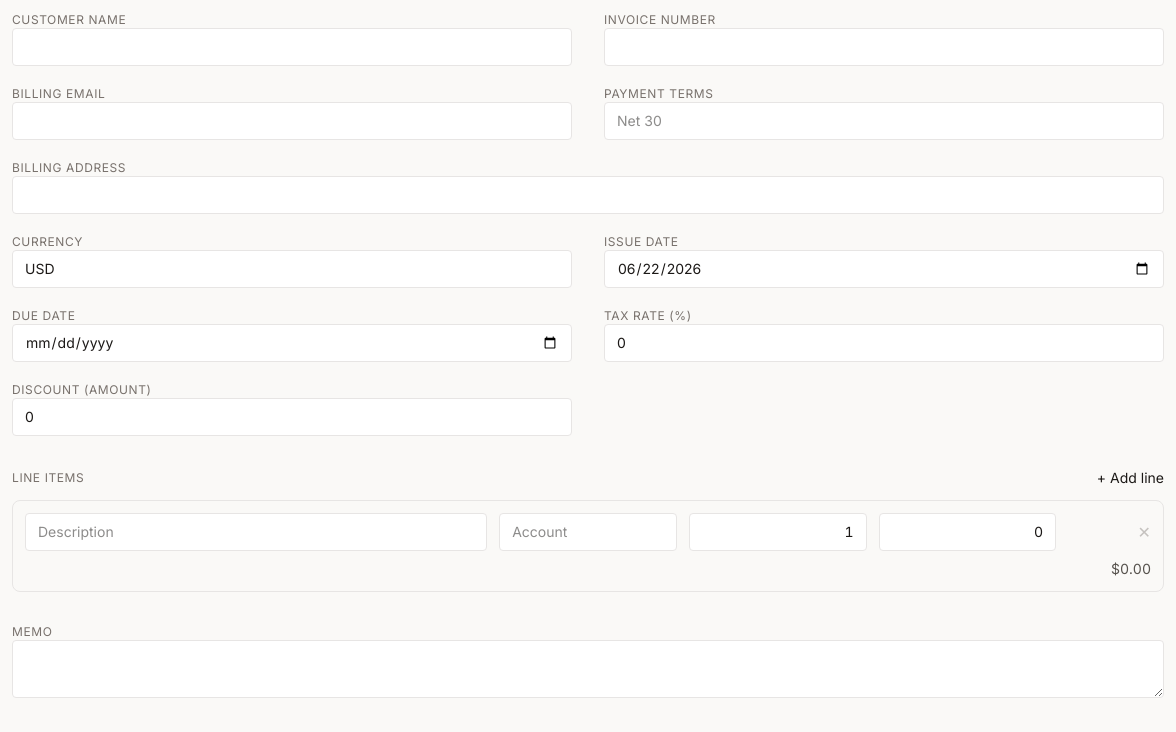
Test: InvoiceForm blur validation › clears the error on blur once the field becomes valid
The width and height of the screenshot is (1176, 732).
Click the field labelled "Customer name". click: (292, 47)
box: [12,28,572,66]
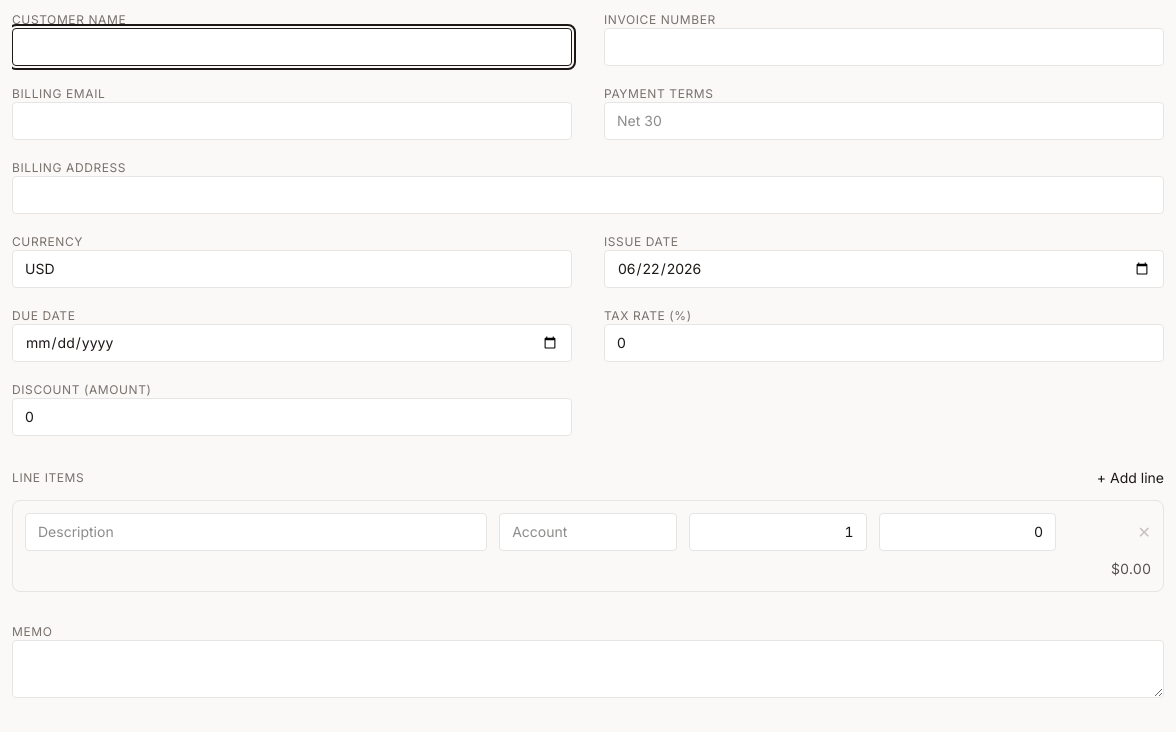
Press Tab
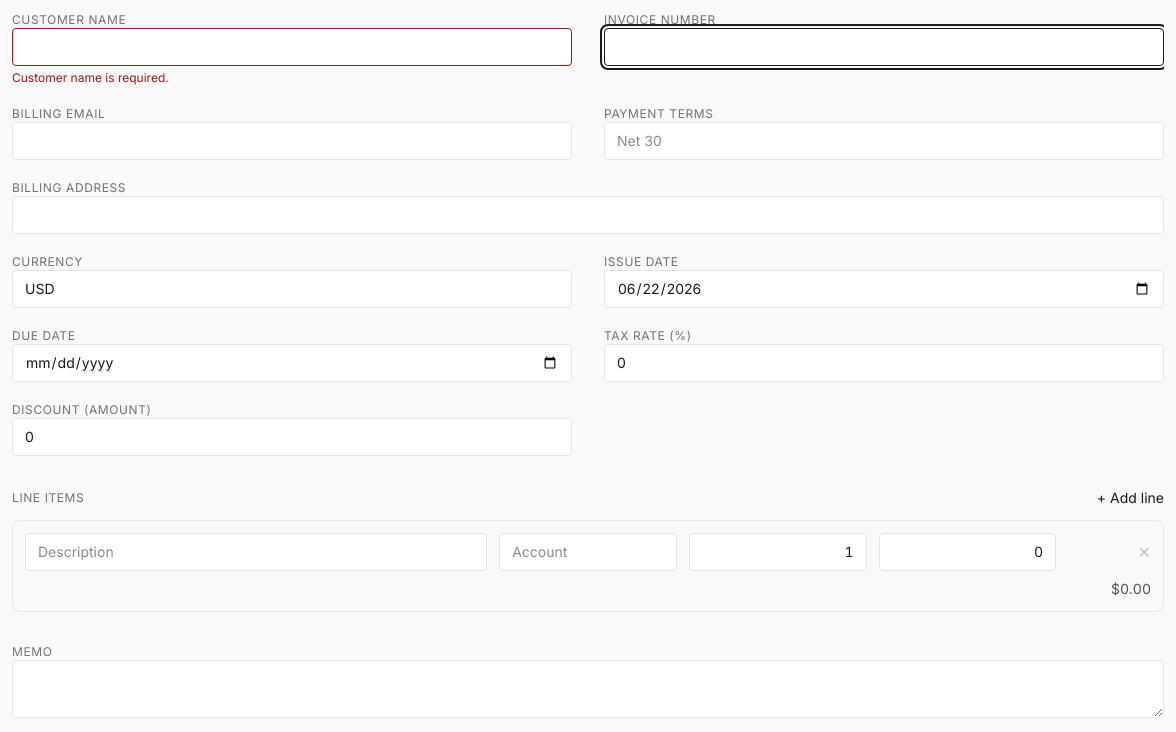
Expected: the text "Customer name is required." is shown, [12,70,169,85]
Type "Acme" into the field labelled "Customer name". click: (292, 47)
box: [12,28,572,66]
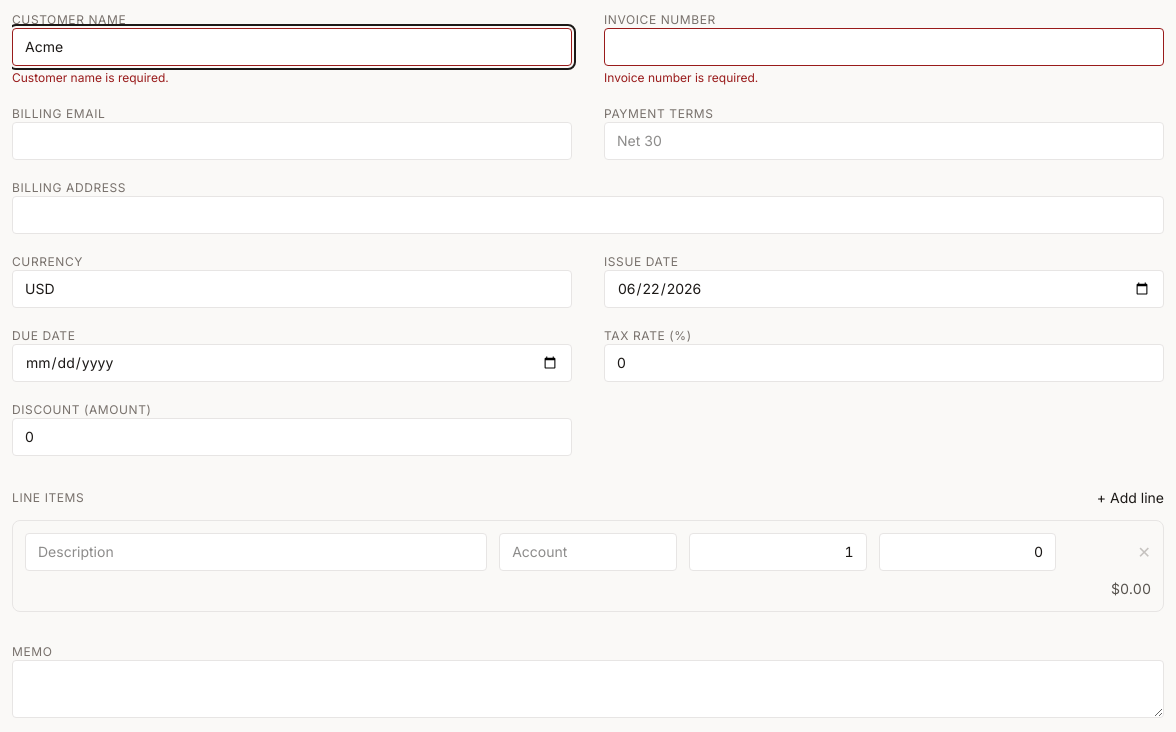
Press Tab
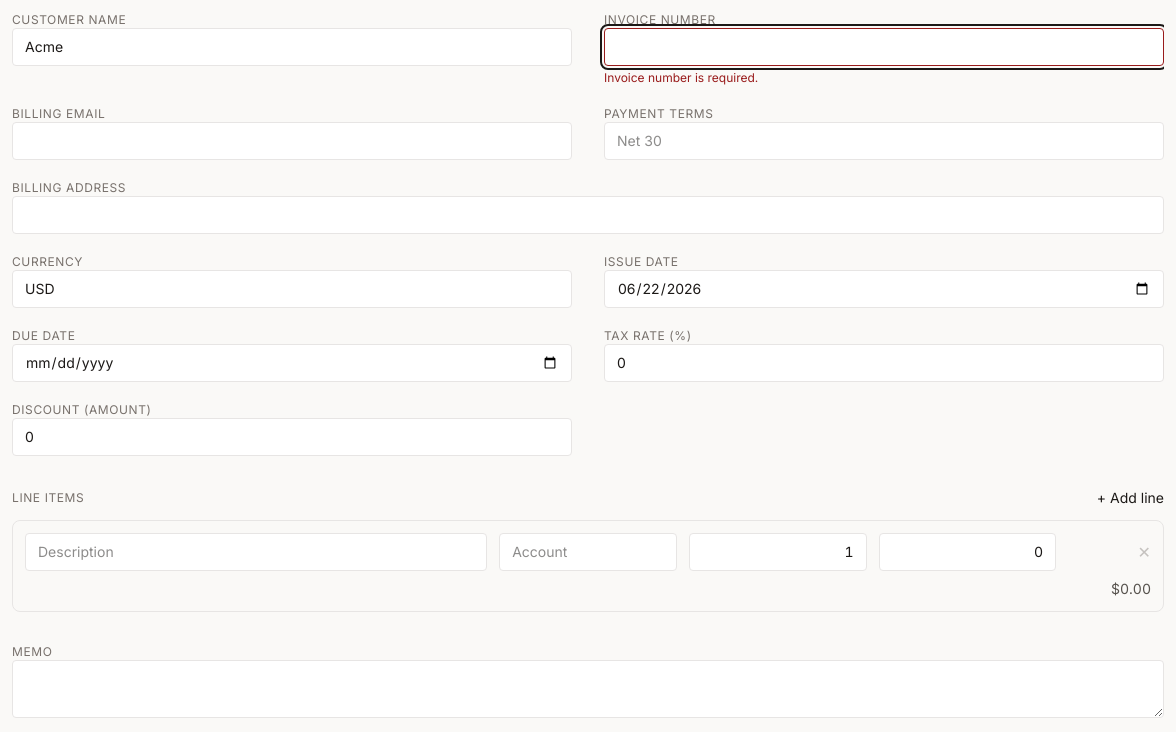
Expected: the text "Customer name is required." is gone
